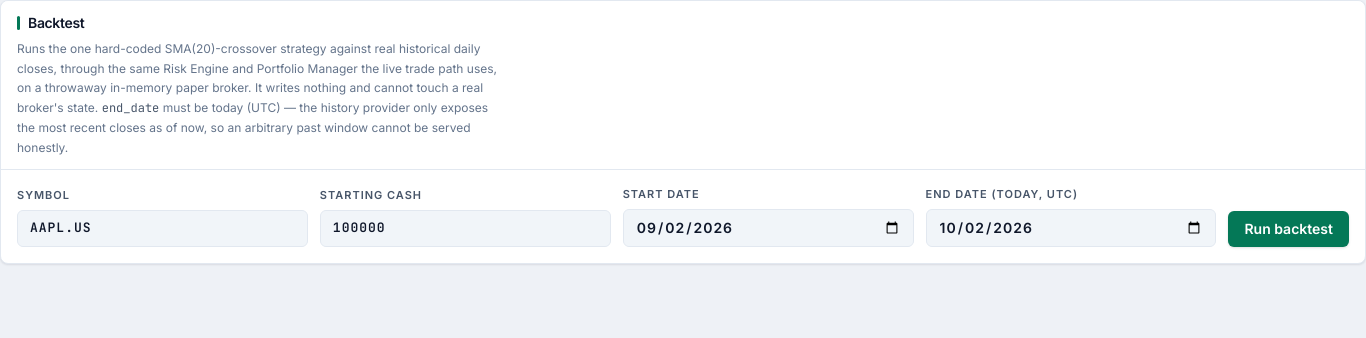
Test: BacktestPanel › surfaces the real UNSUPPORTED_DATE_RANGE sentinel
In the date field labelled "End date (today, UTC)": (1071, 228) [926,208,1216,246], type "2020-01-02"
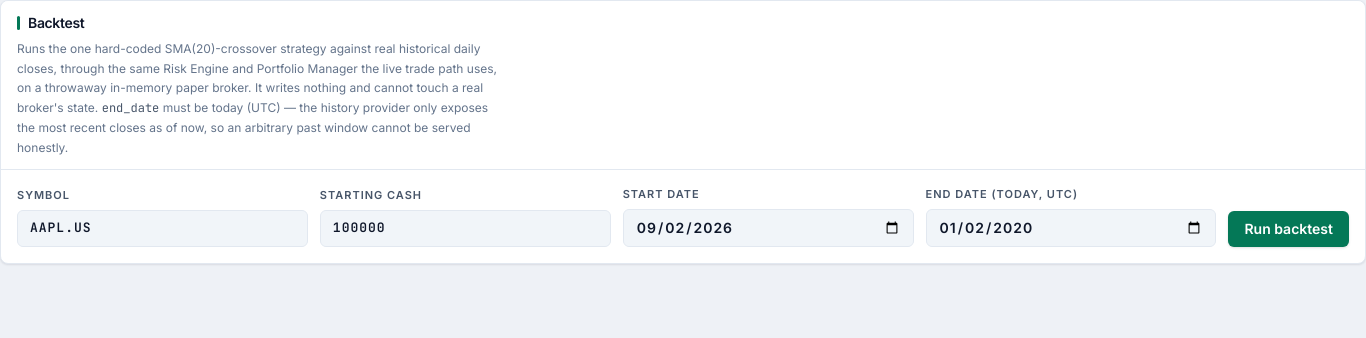
Click the button "Run backtest": (1289, 228) [1228,210,1349,246]
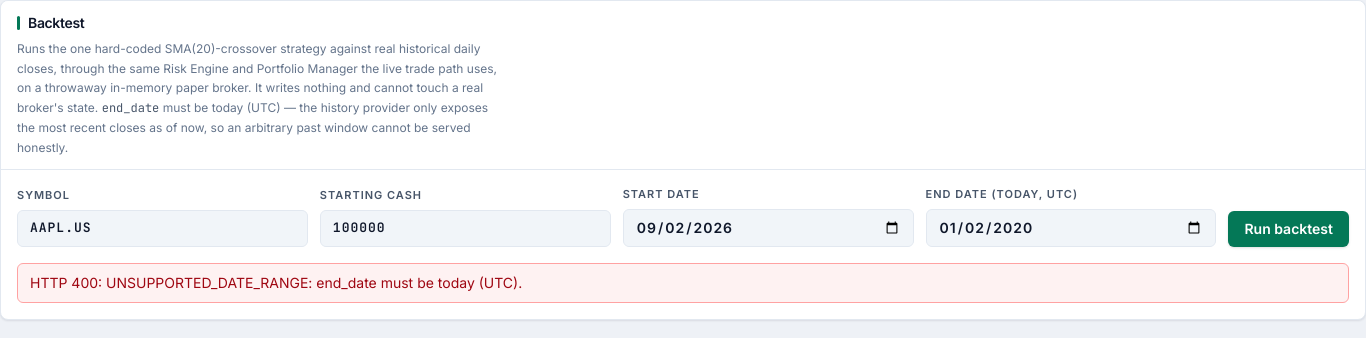
Now the text "HTTP 400: UNSUPPORTED_DATE_RANGE: end_date must be today (UTC)." is shown, box [17,262,1349,303]
